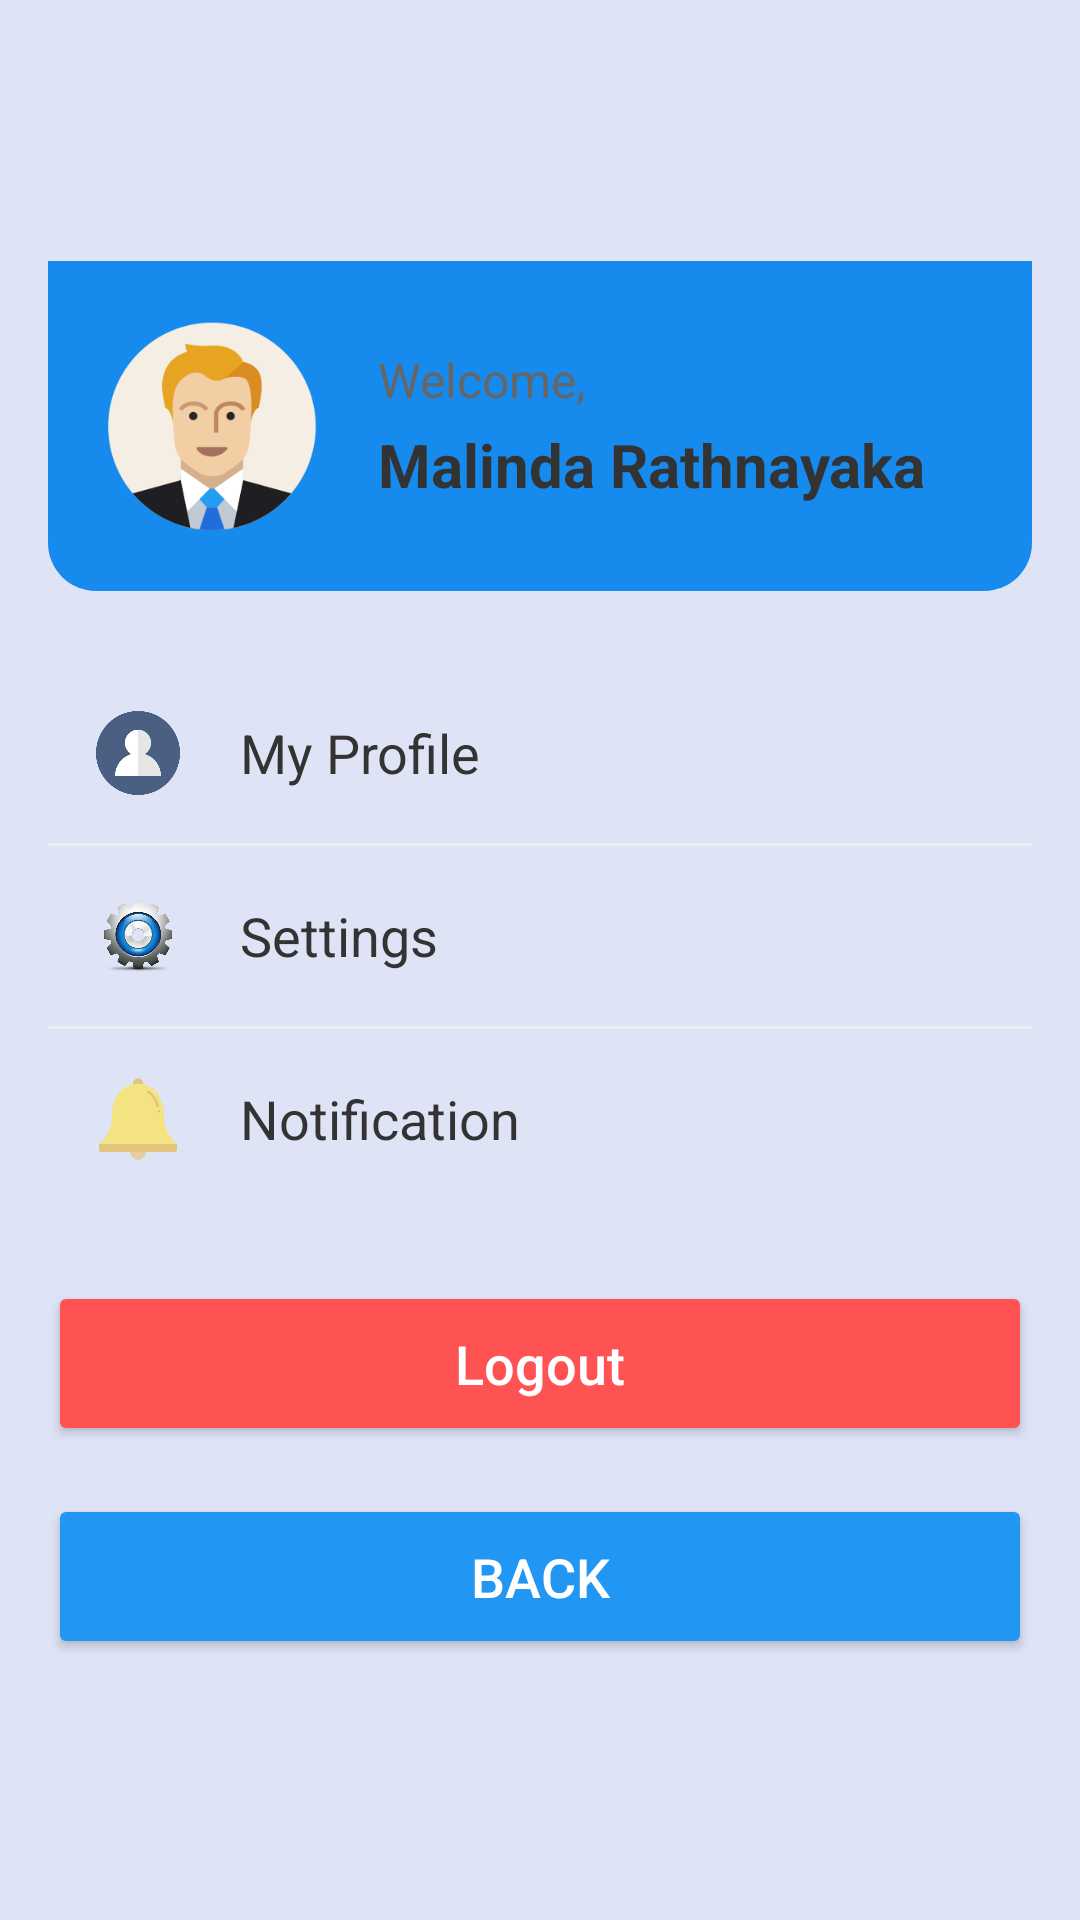

Where to tap for icons on this 1080 × 1920 app screen, as (x,y):
pro: (138,753)
